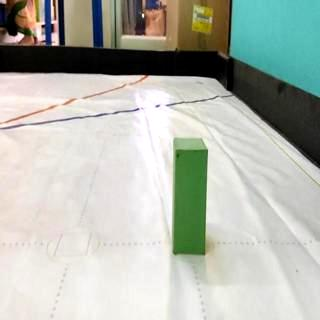greenbox: (172, 136, 208, 256)
